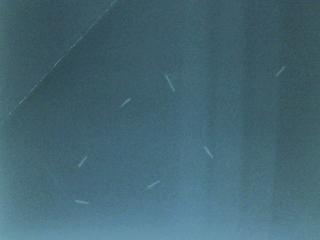crack: (0, 0, 122, 120)
scratch: (158, 68, 182, 97), (269, 59, 291, 84), (198, 140, 220, 164), (139, 177, 165, 194), (70, 195, 96, 209), (72, 151, 91, 170), (115, 93, 135, 110)
